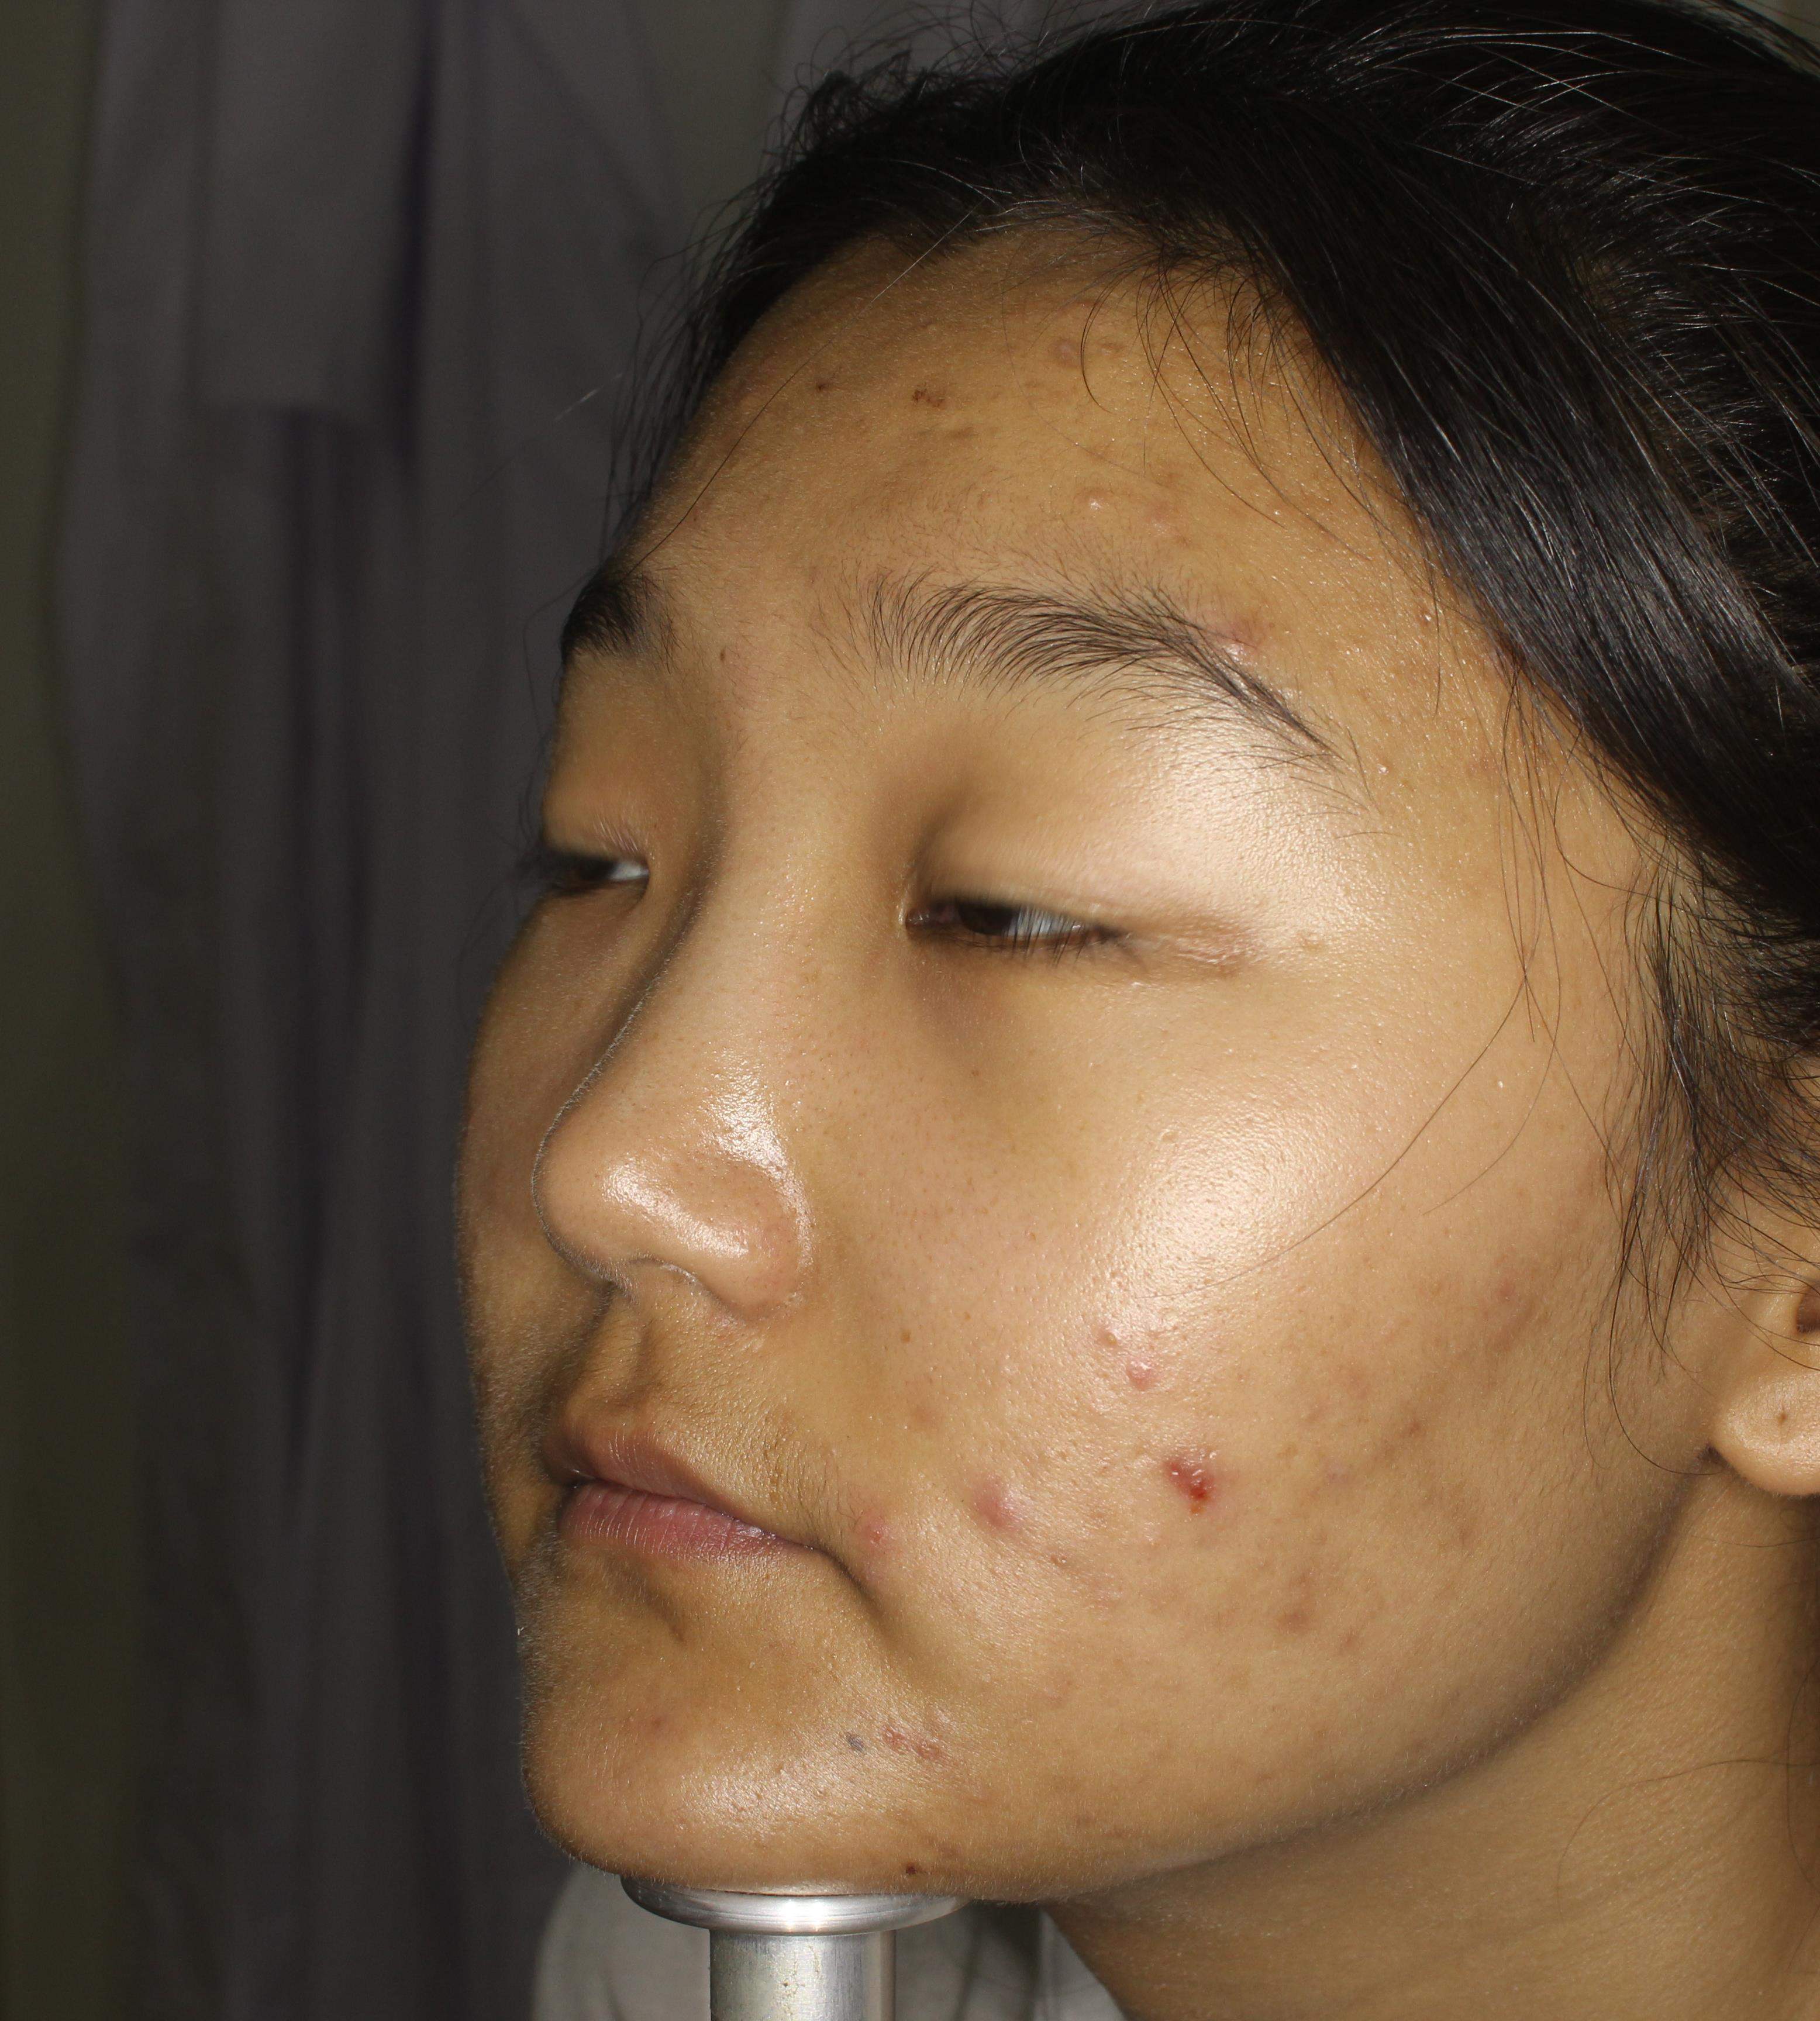fore: (889, 374, 979, 469), (1372, 1396, 1444, 1496), (1094, 1320, 1175, 1401), (956, 1473, 1019, 1571), (1152, 1442, 1224, 1528), (906, 1696, 956, 1794), (843, 1491, 901, 1568), (1260, 1577, 1323, 1638)
